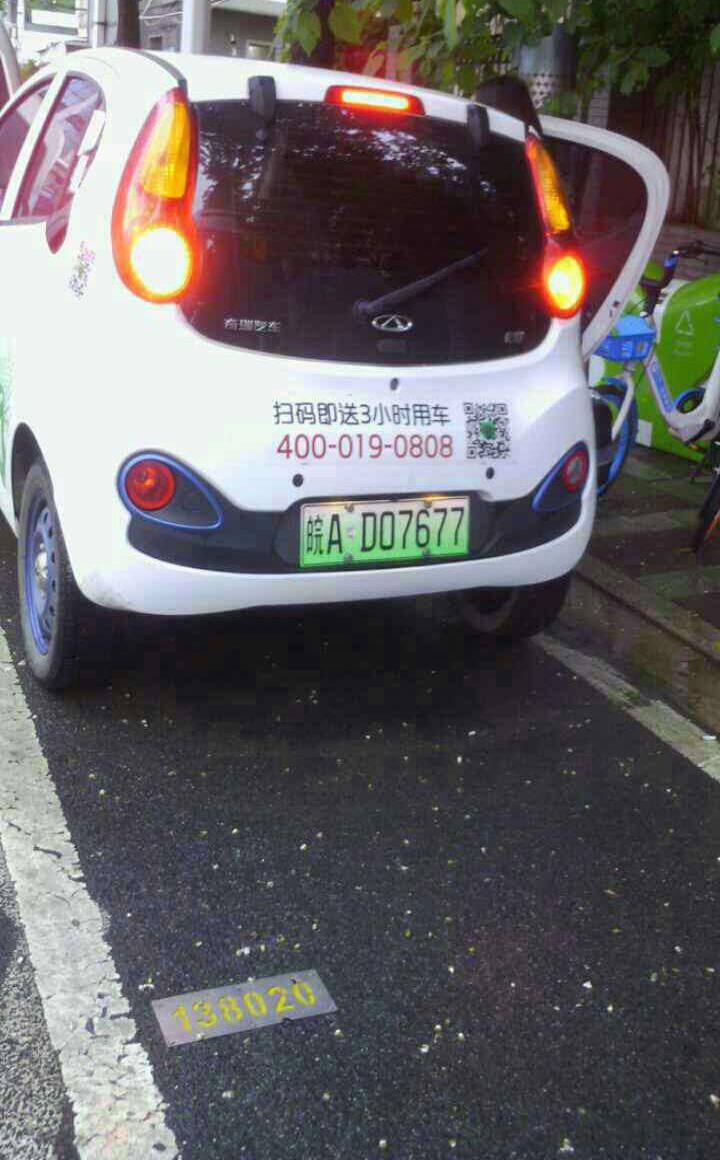car: (294, 499, 486, 557)
